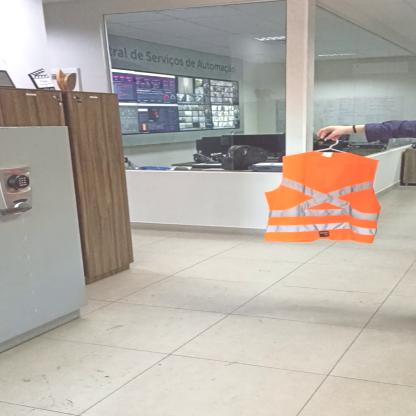colete: (262, 151, 382, 244)
